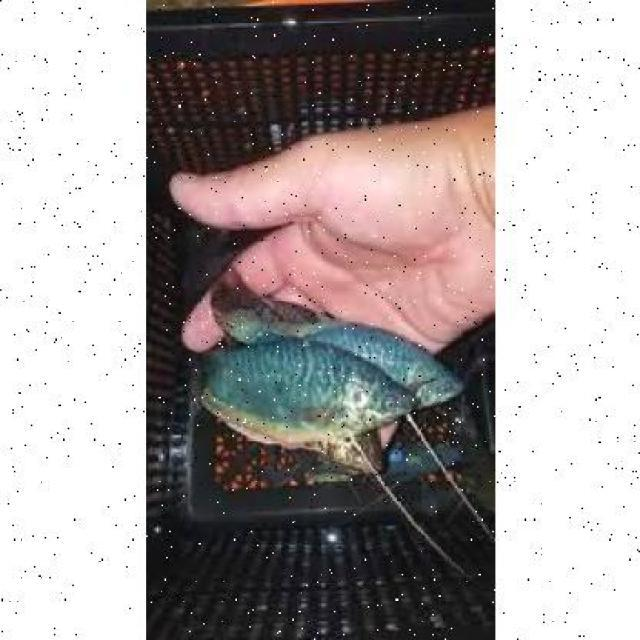gurame: (192, 330, 408, 456)
